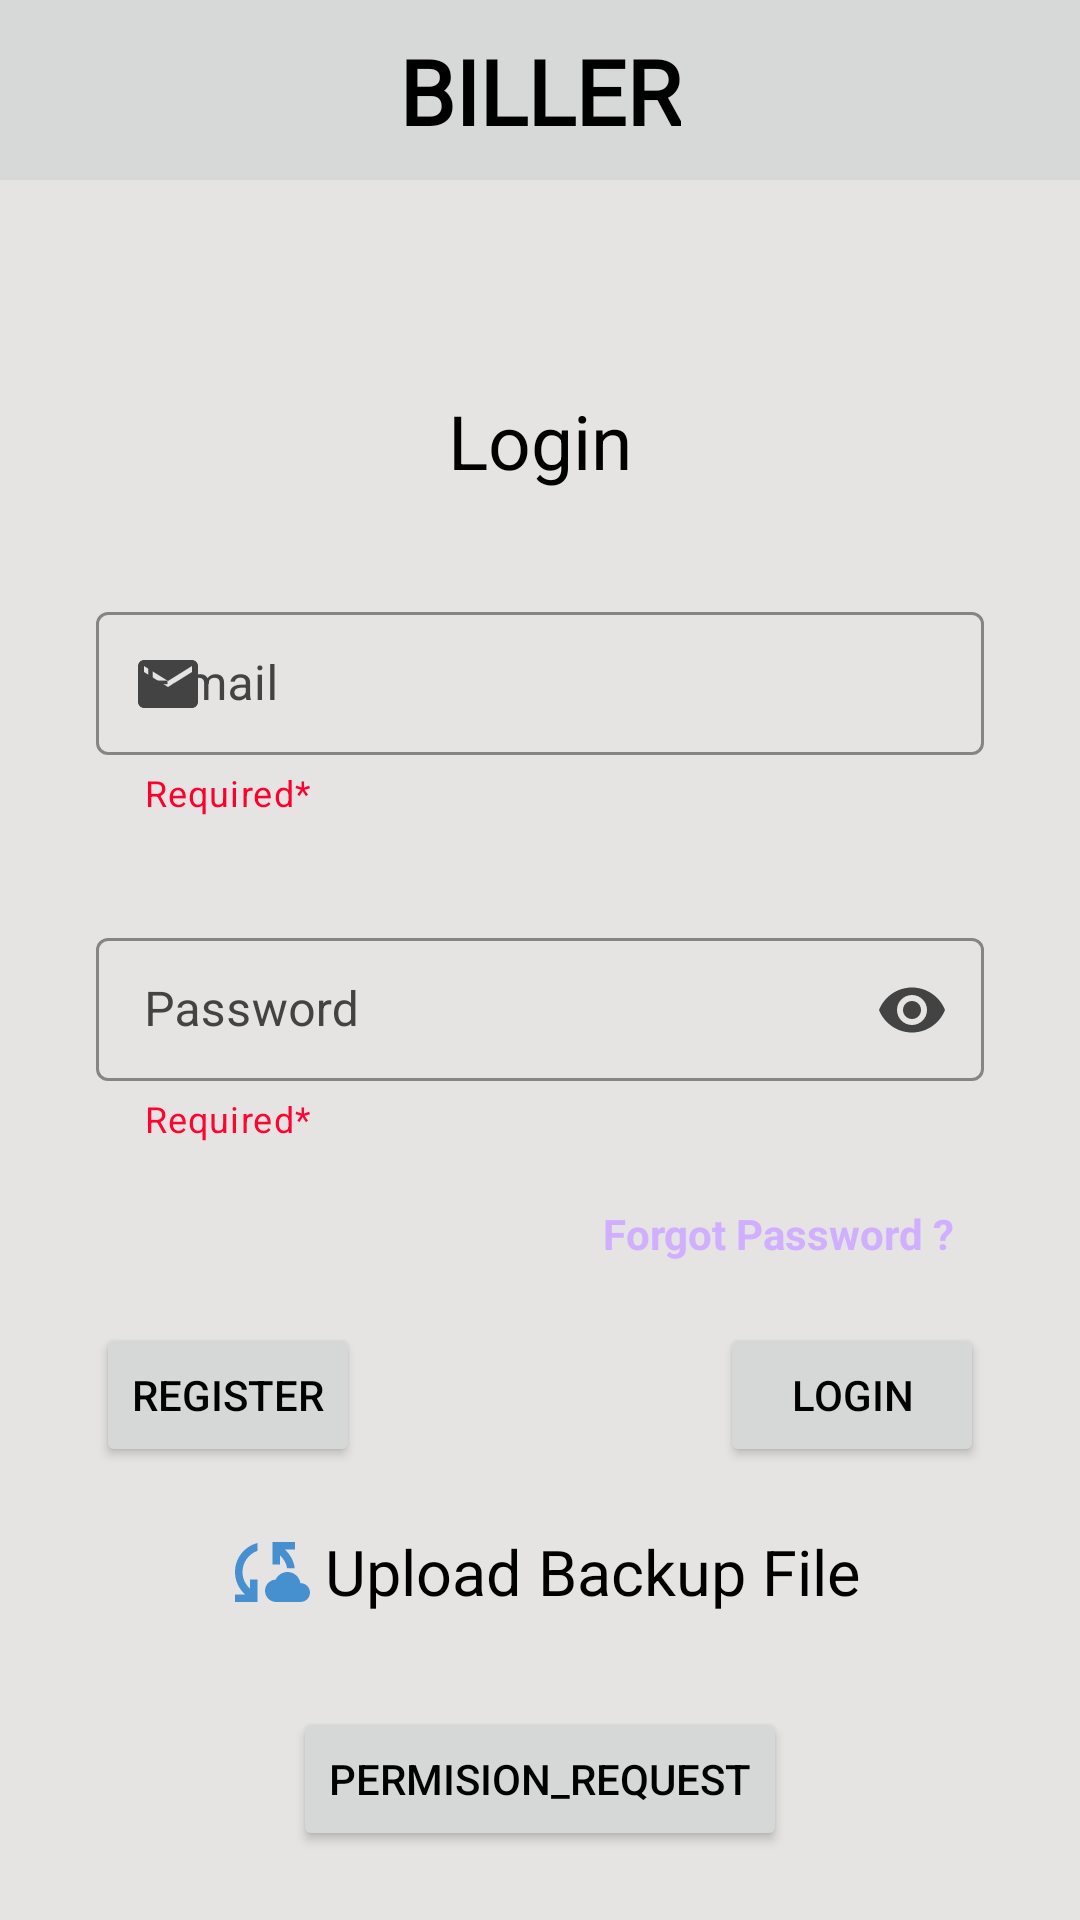

Screen size 1080x1920. Icon name, then its box in pixels as (x1, y1, x2, y2):
cloud sync: (235, 1542, 310, 1602)
